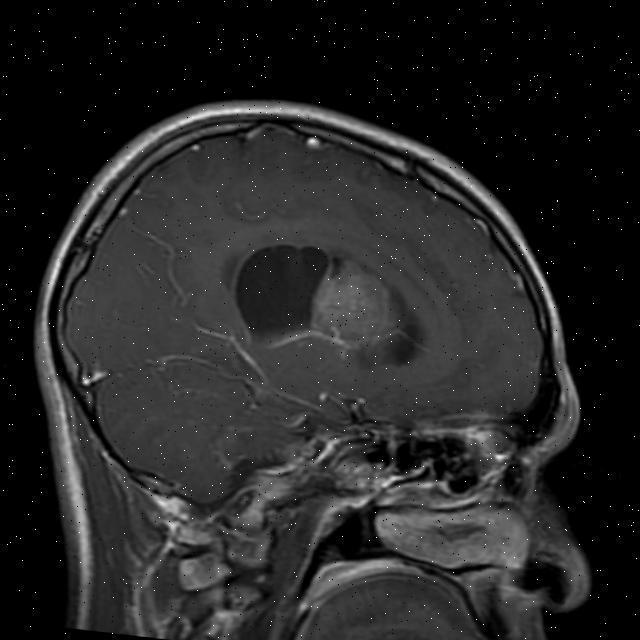Glioma: (304, 250, 414, 369)
